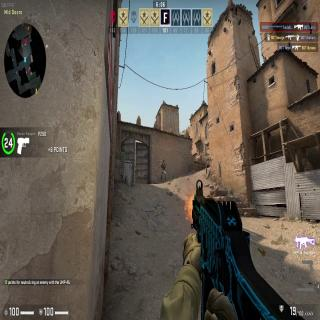CT-Body: (161, 160, 165, 180)
CT-Head: (162, 160, 165, 163)
